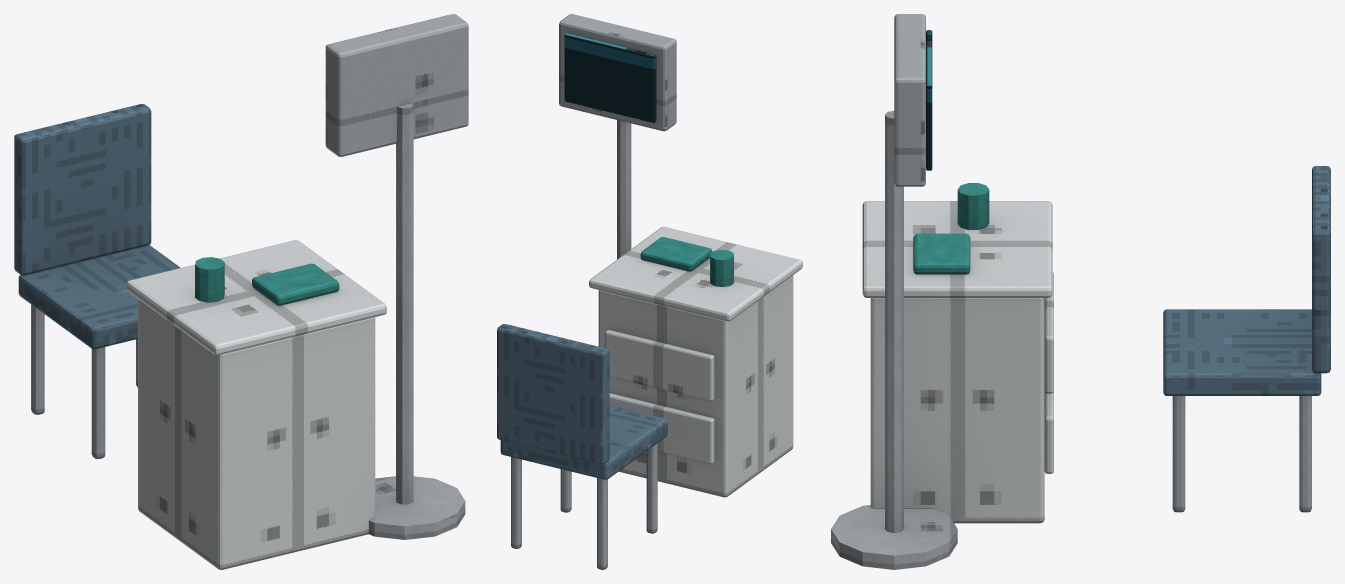
The model's file is base_med_bed_side.glb.
3 renders of one model, left to right at view 1: azimuth 30°, elevation 25°; view 2: azimuth 150°, elevation 25°; view 3: azimuth 270°, elevation 25°, orthographic. The views are drawn at different scales.
Parts seen in each view (by area): view 1: base_med_bed_side; view 2: base_med_bed_side; view 3: base_med_bed_side.
Boxes of the visible parts, bbox=[...] form: base_med_bed_side: bbox=[14, 14, 468, 569]; base_med_bed_side: bbox=[497, 14, 802, 569]; base_med_bed_side: bbox=[831, 14, 1330, 569].
Size of the model in its own units: 1.03 by 1.74 by 1.58.
Materials: 5 (5 with a texture image).
